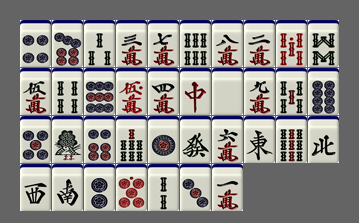0m: (116, 68, 147, 115)
0p: (116, 164, 147, 211)
0s: (276, 20, 307, 67)
1m: (212, 164, 243, 211)
1p: (148, 116, 179, 163)
1s: (52, 116, 83, 163)
1z: (244, 116, 275, 163)
2m: (244, 20, 275, 67)
2p: (84, 164, 115, 211)
2s: (148, 164, 179, 211)
2z: (52, 164, 83, 211)
3m: (116, 20, 147, 67)
3p: (180, 164, 211, 211)
3s: (84, 20, 115, 67)
3z: (20, 164, 51, 211)
4m: (148, 68, 179, 115)
4p: (20, 20, 51, 67)
4s: (52, 68, 83, 115)
4z: (308, 116, 339, 163)
5m: (20, 68, 51, 115)
5p: (20, 116, 51, 163)
5s: (276, 68, 307, 115)
5z: (212, 68, 243, 115)
6m: (212, 116, 243, 163)
6p: (84, 116, 115, 163)
6s: (180, 20, 211, 67)
6z: (180, 116, 211, 163)
7m: (148, 20, 179, 67)
7p: (52, 20, 83, 67)
7s: (116, 116, 147, 163)
7z: (180, 68, 211, 115)
8m: (212, 20, 243, 67)
8p: (308, 68, 339, 115)
8s: (308, 20, 339, 67)
9m: (244, 68, 275, 115)
9p: (84, 68, 115, 115)
9s: (276, 116, 307, 163)
